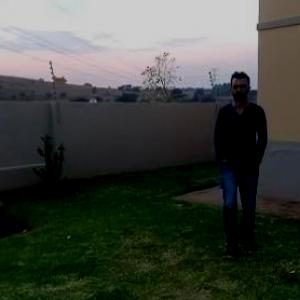follow: (210, 68, 271, 244)
